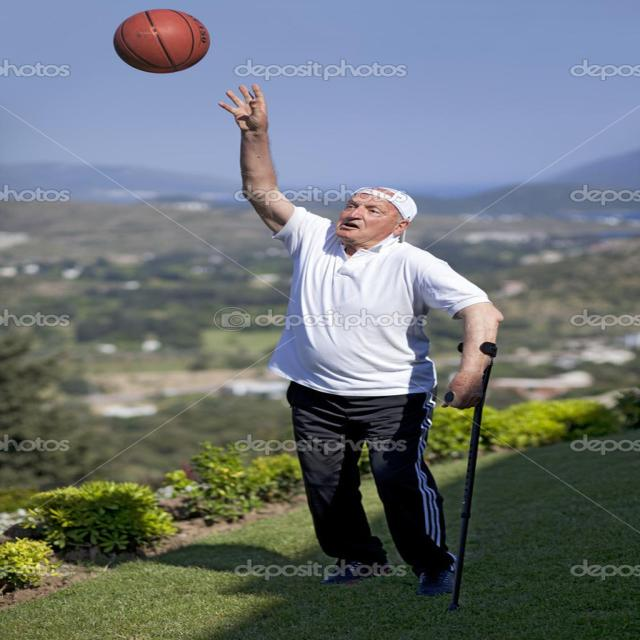Face: (331, 188, 412, 246)
